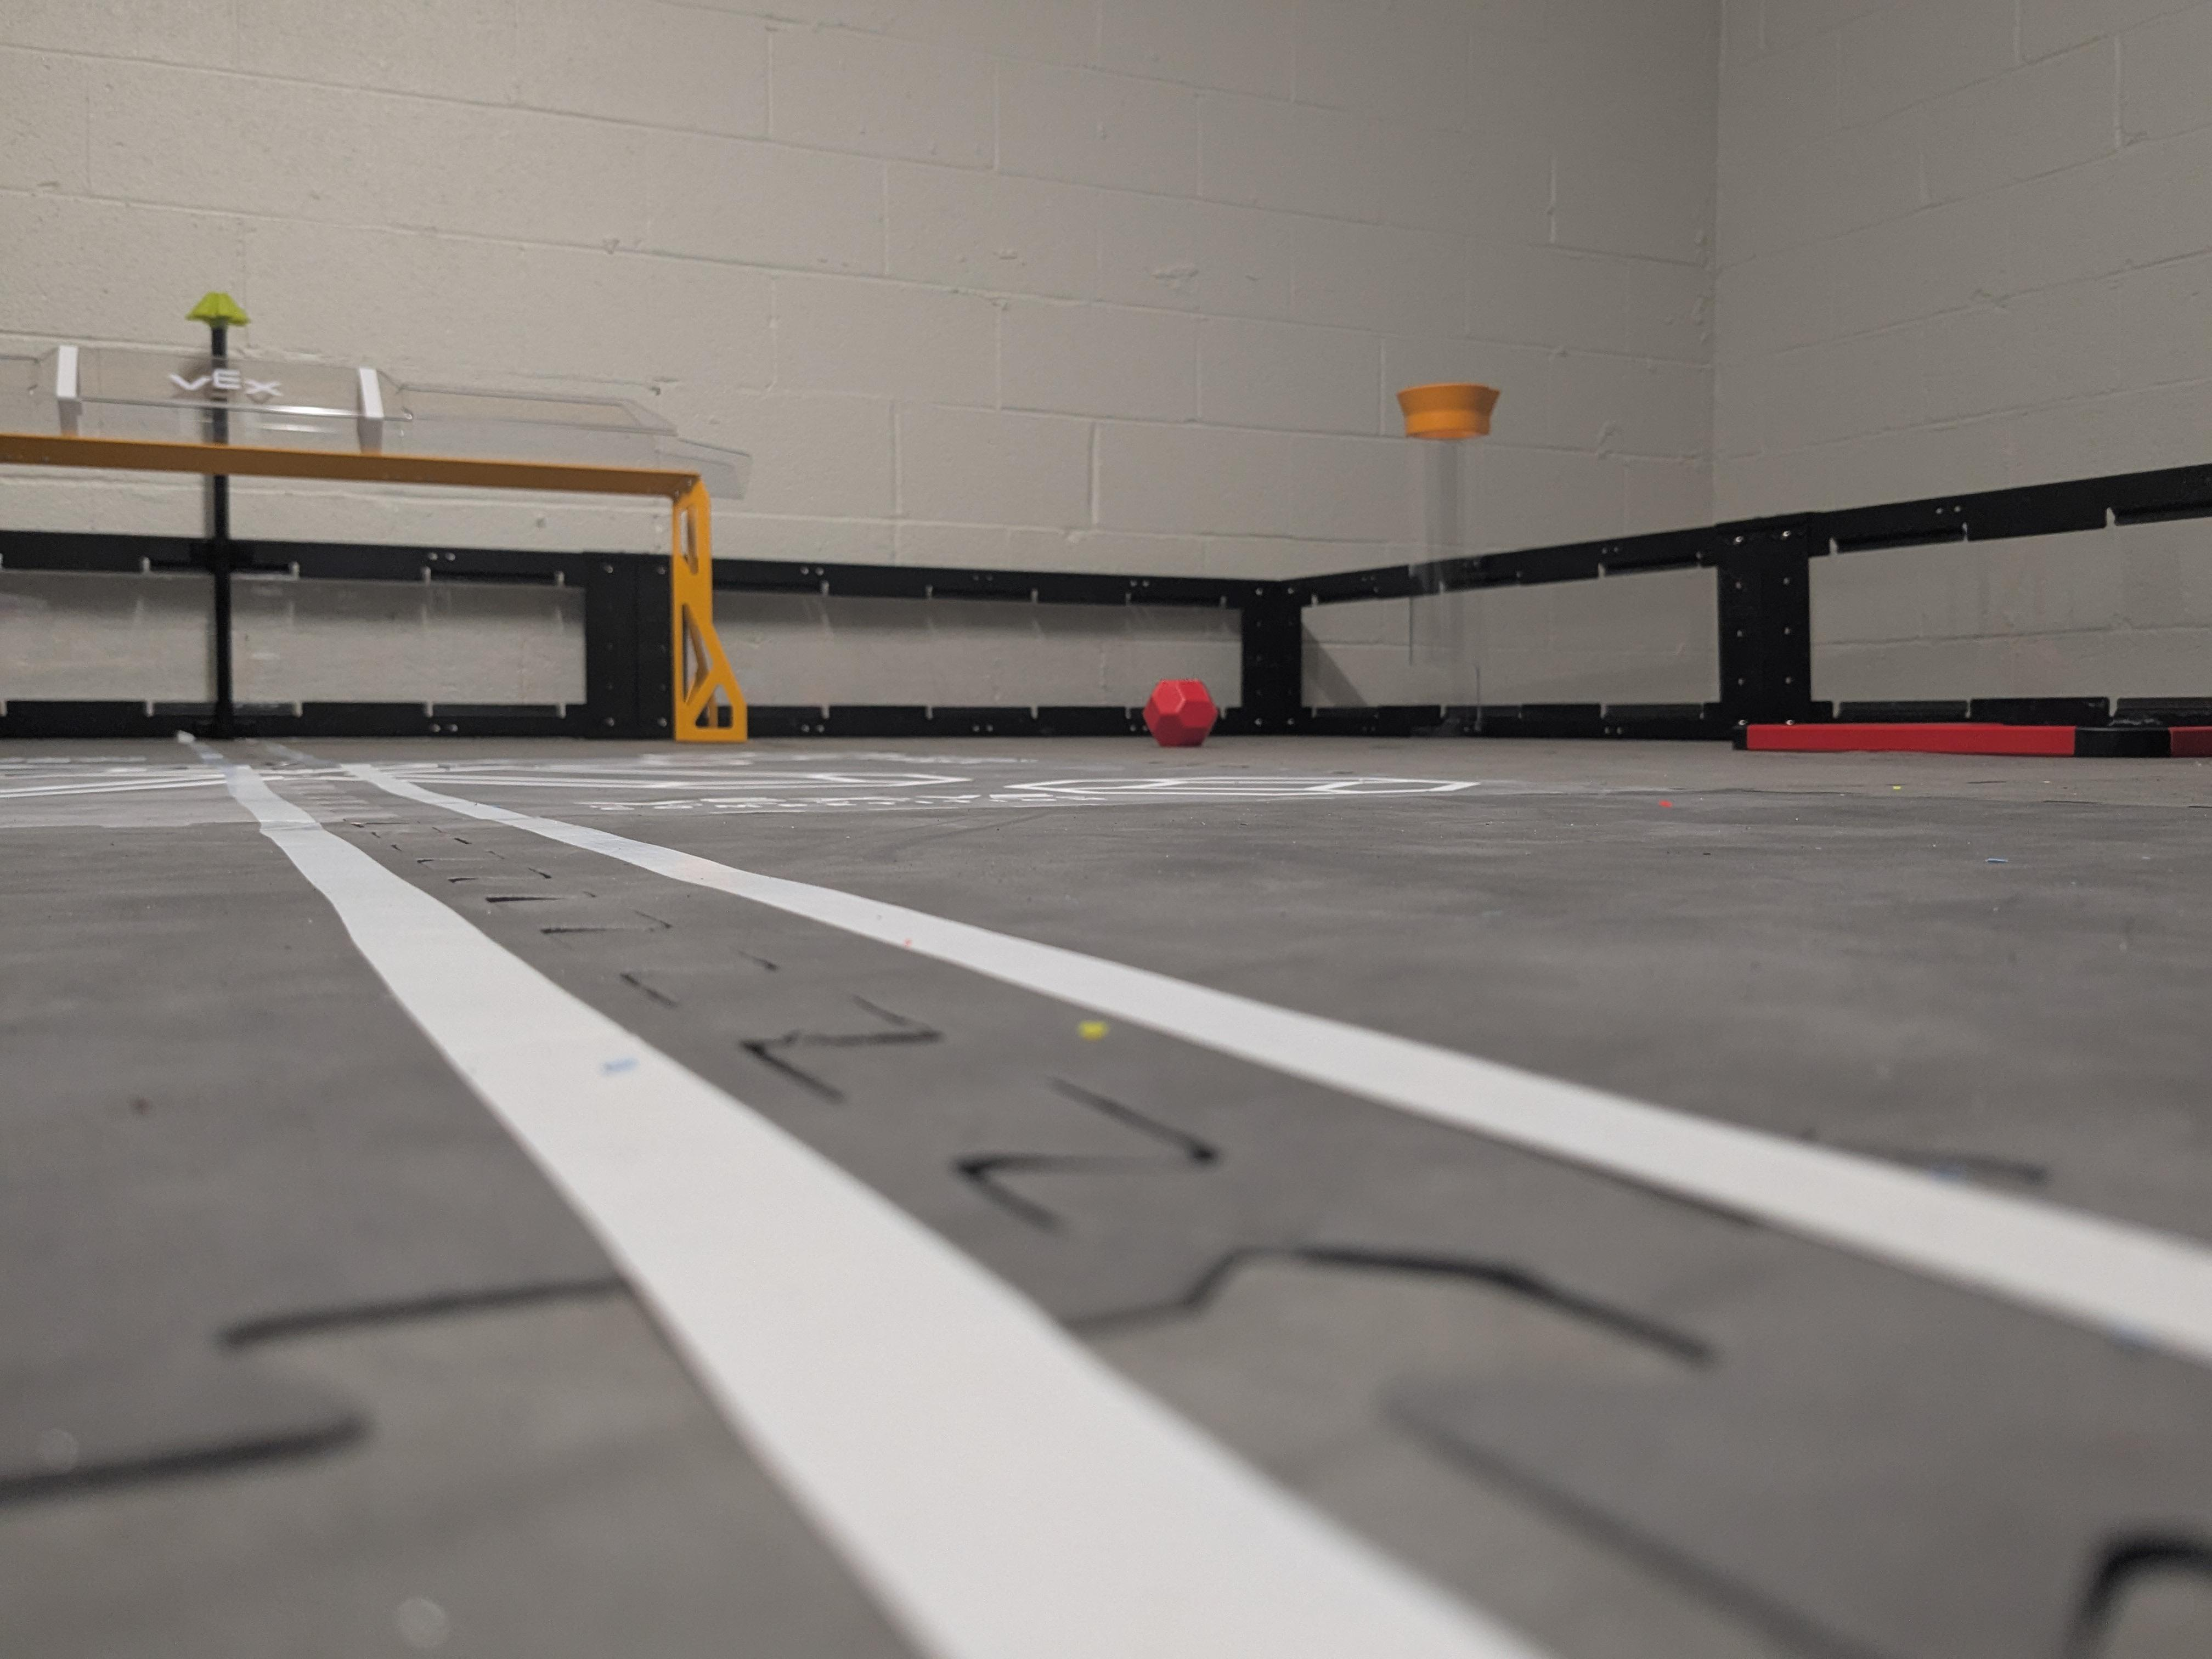Vex-Pieces-RED: (1143, 680, 1217, 746)
